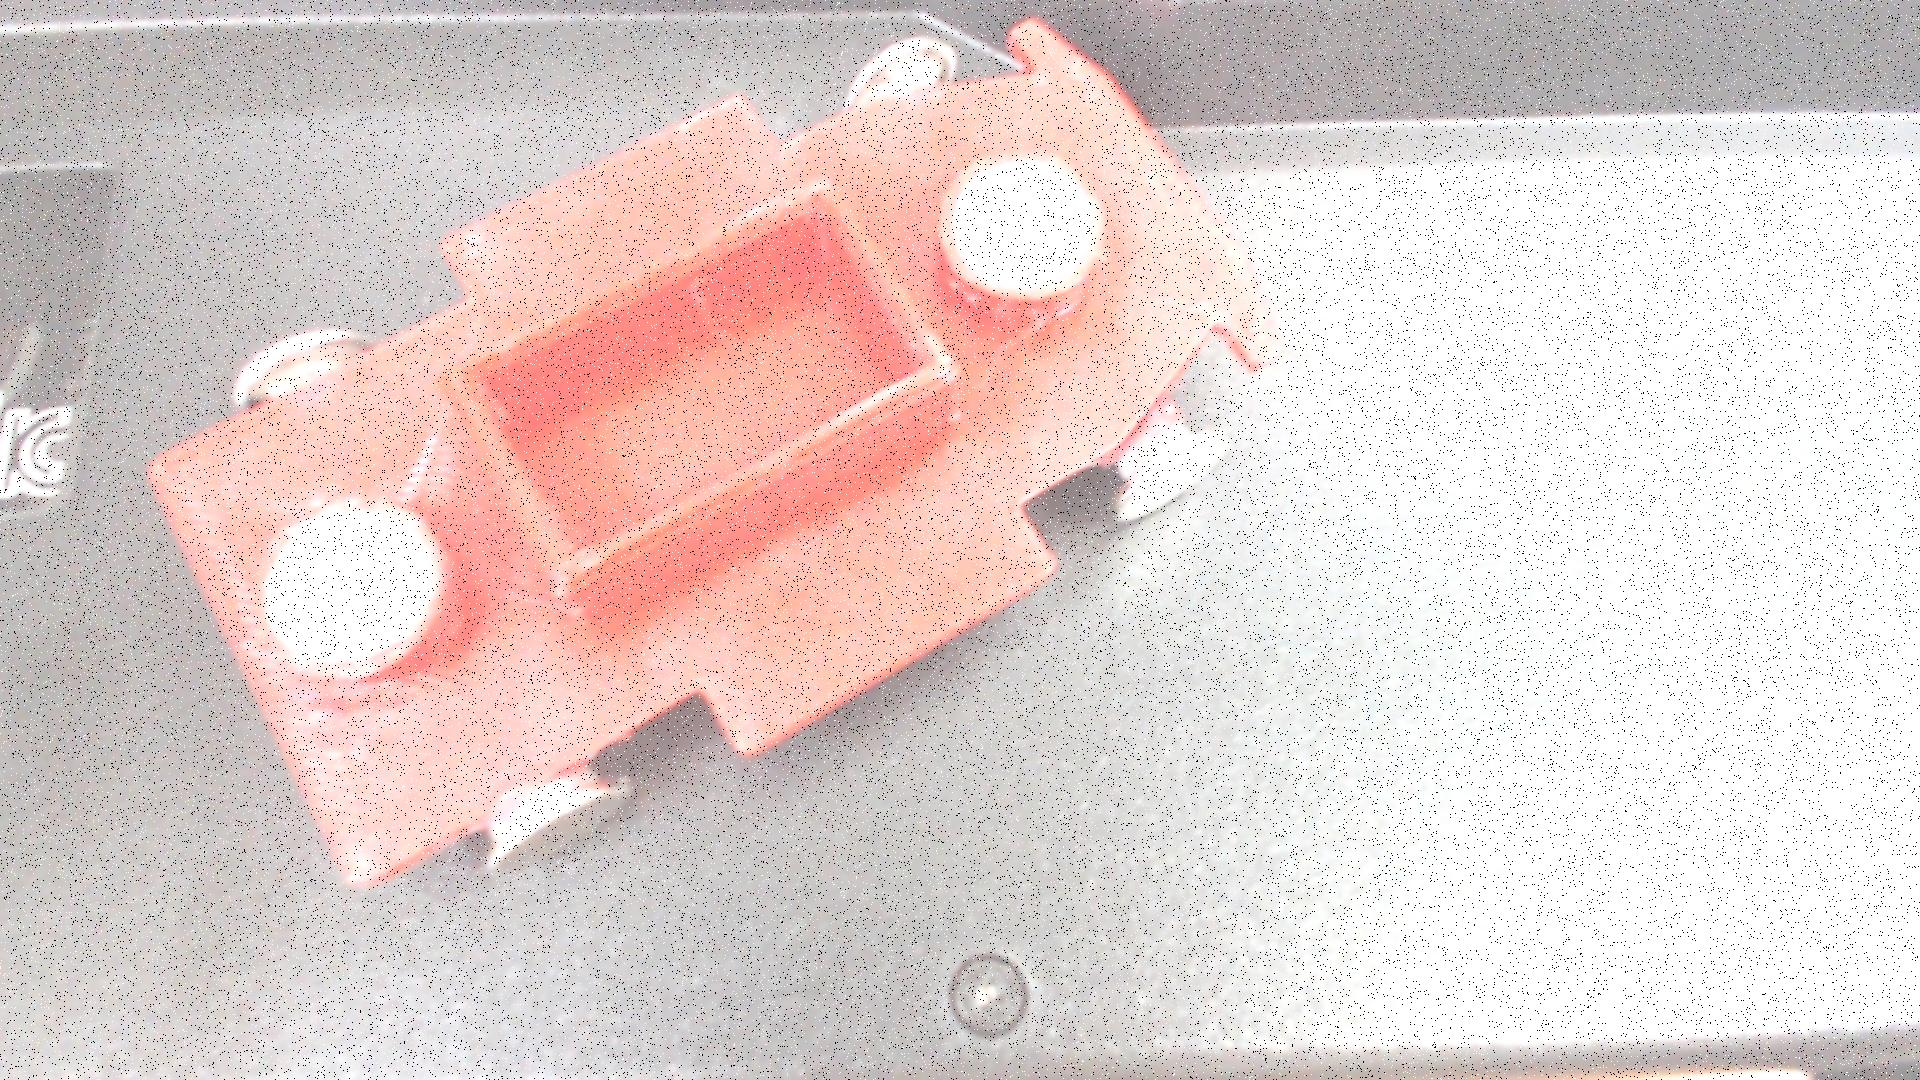lower_ok: (436, 158, 1002, 650)
